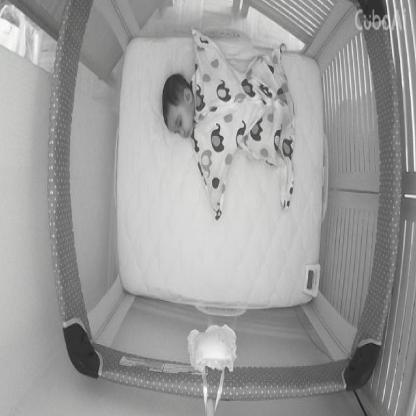baby: (162, 27, 296, 222)
